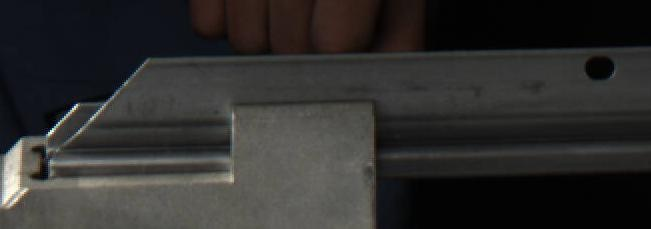cut: (38, 50, 203, 180)
holes: (583, 54, 617, 81)
